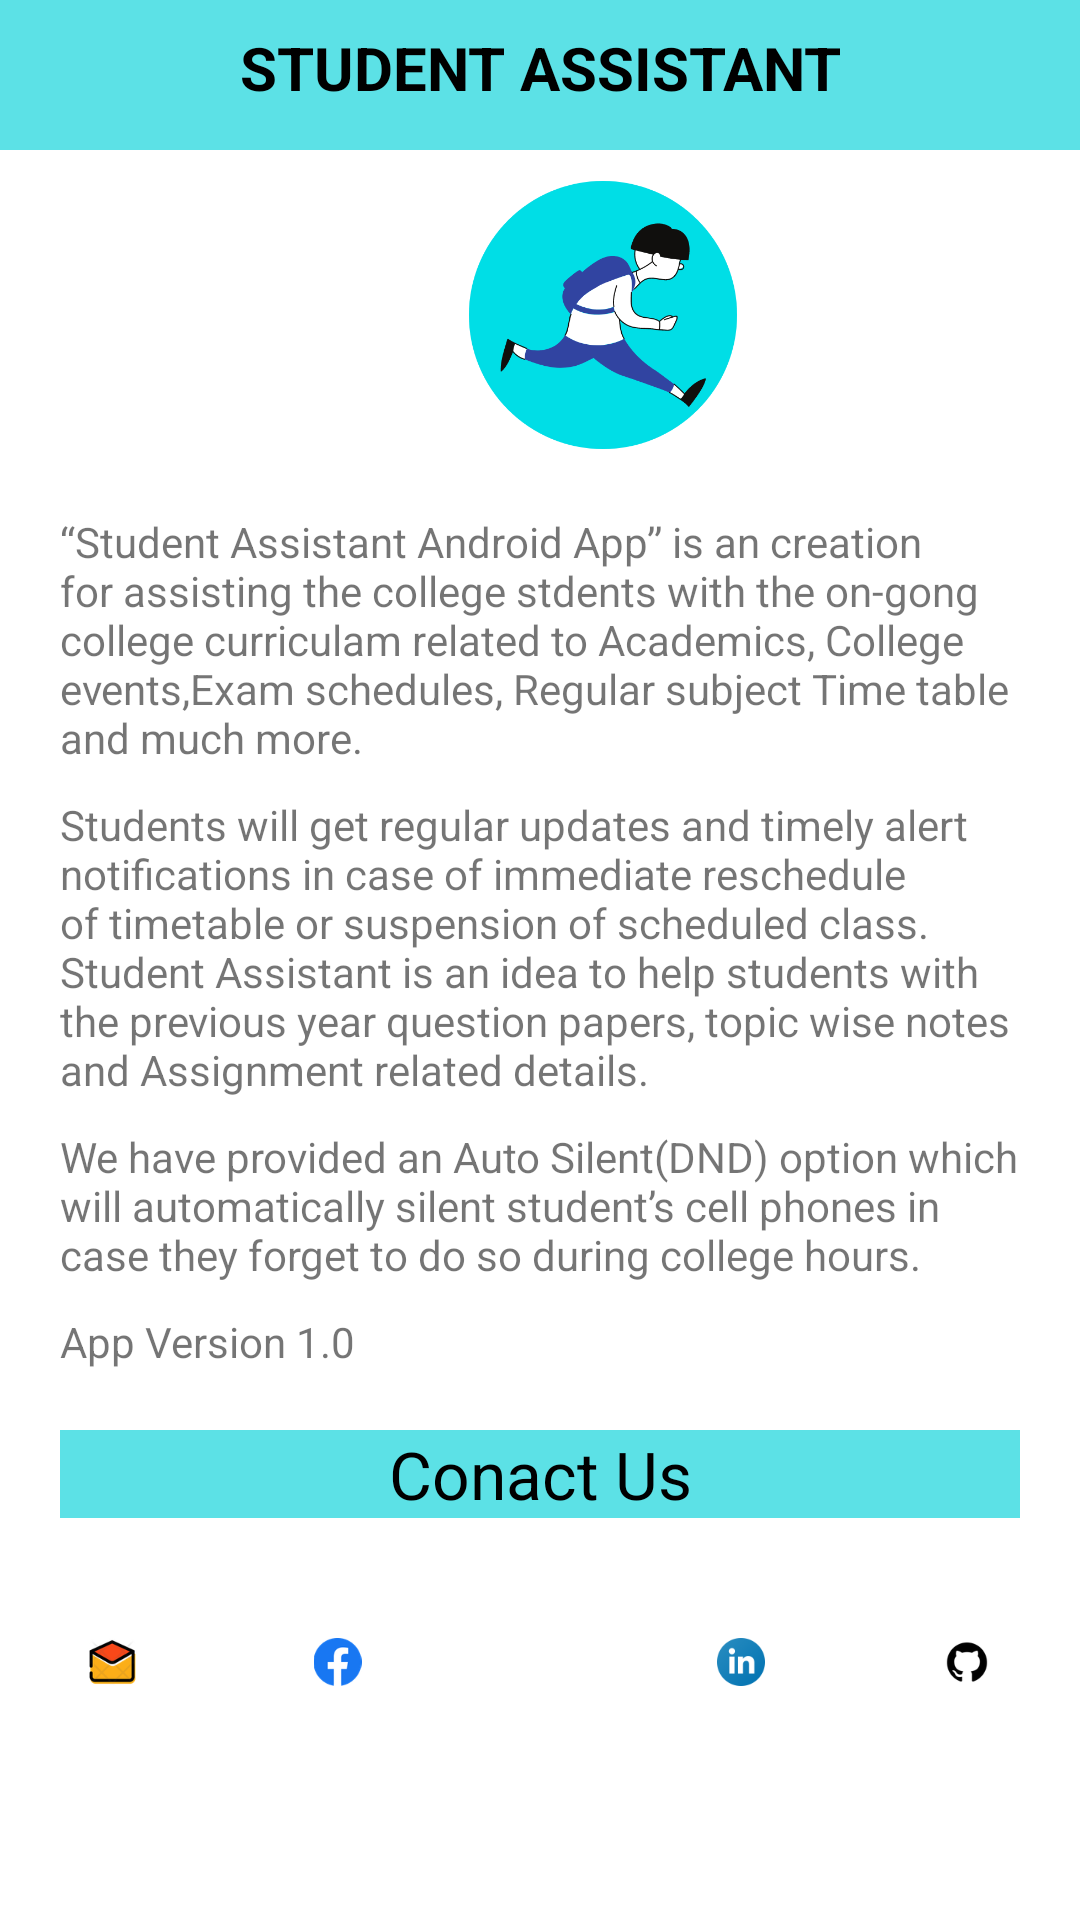

Icon click points for this 1080*1920 phone screenshot, format (x,y):
mal: (112,1662)
